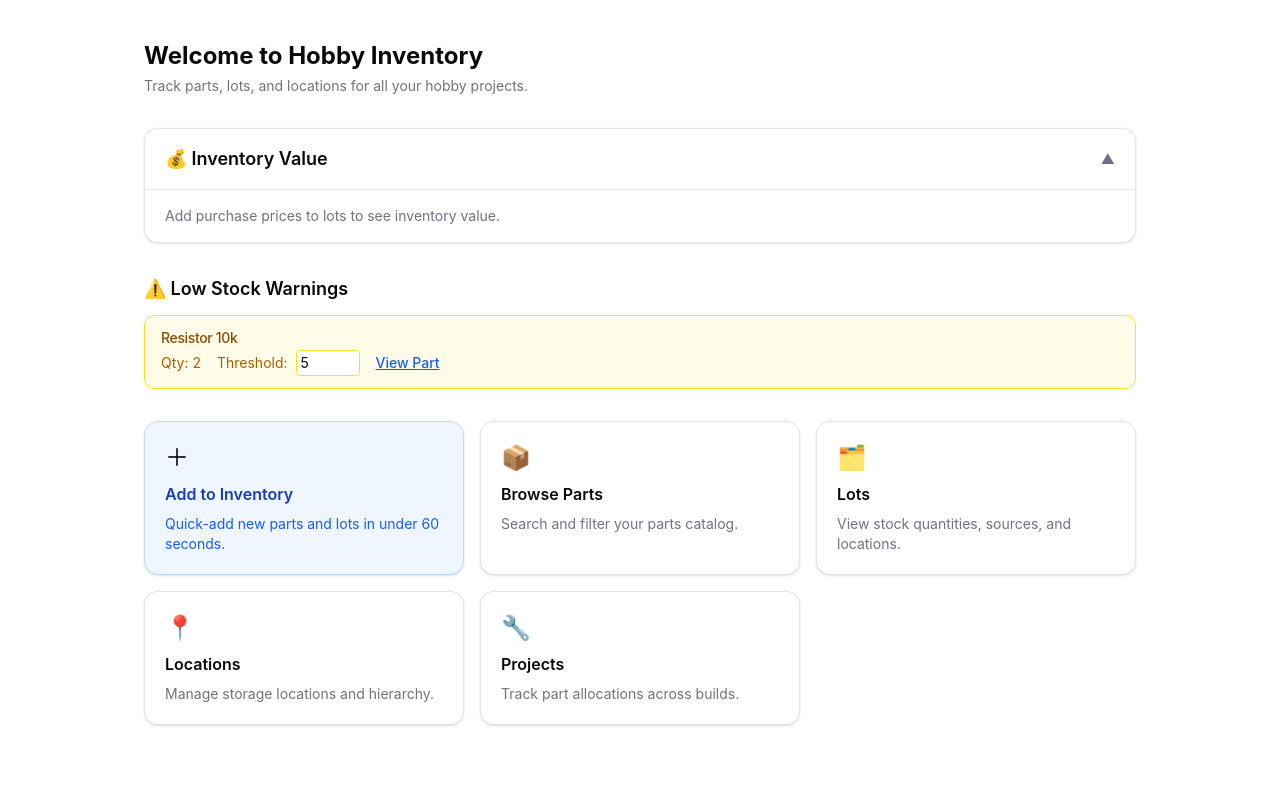
Test case: Home page — threshold management › falls back to DEFAULT_THRESHOLD (5) when blur value is not a valid number
Replace the text in the number field named "stock threshold for resistor 10k" with "abc" at (328, 363), box [296,350,360,376]
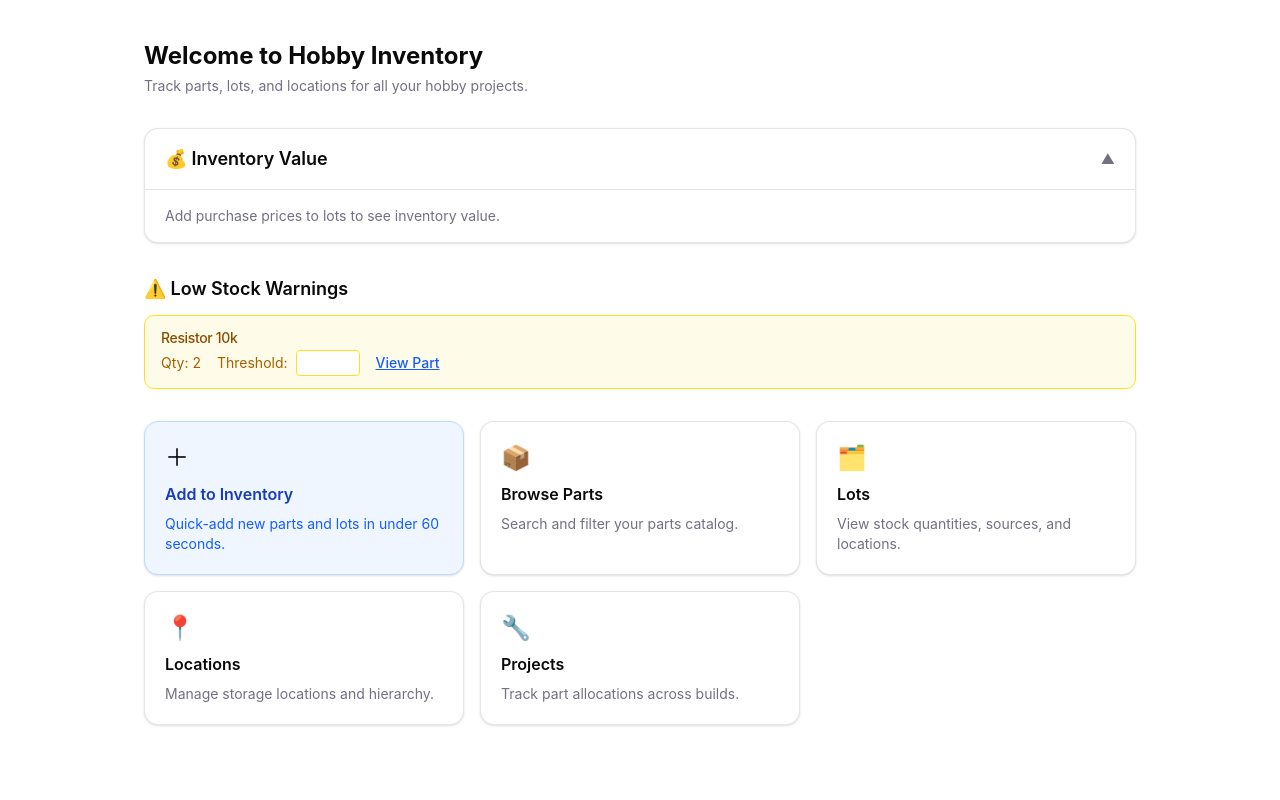
Leave the number field named "stock threshold for resistor 10k", box [296,350,360,376]
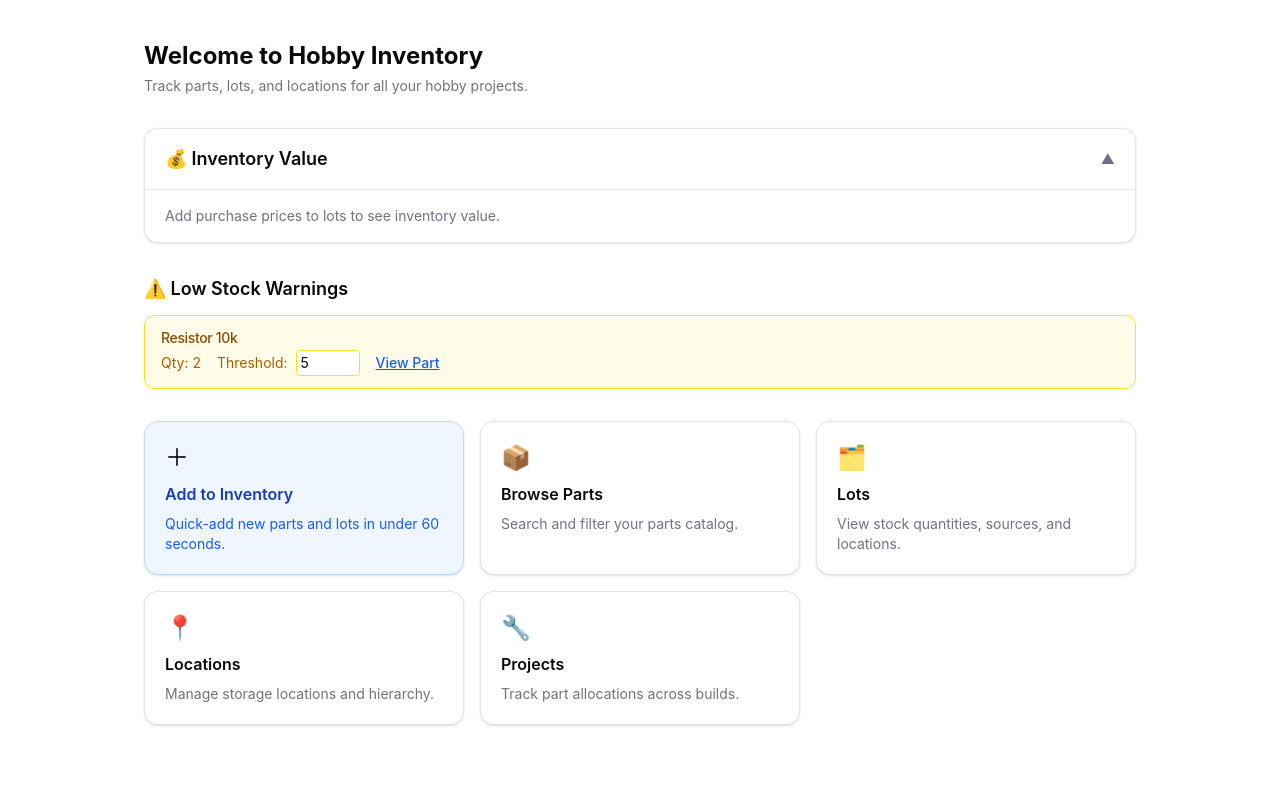
expect the number field named "stock threshold for resistor 10k" holds "5": met, box [296,350,360,376]
